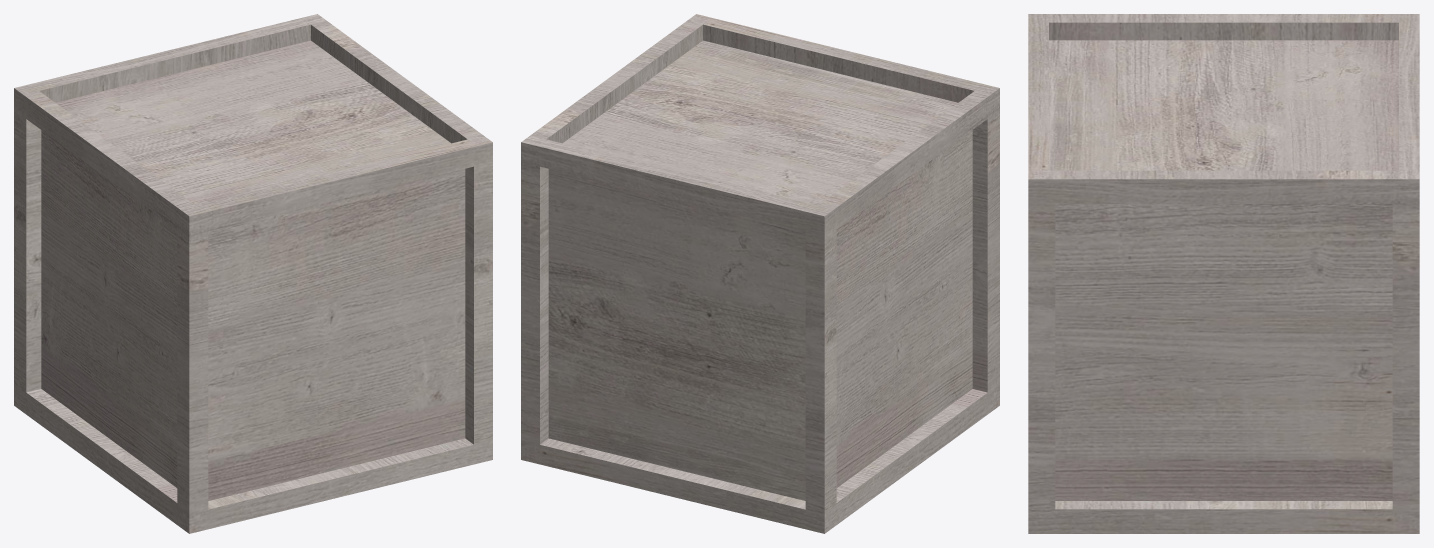
File: crate box.glb
3 renders of one model, left to right at view 1: azimuth 30°, elevation 25°; view 2: azimuth 150°, elevation 25°; view 3: azimuth 270°, elevation 25°, orthographic. The views are drawn at different scales.
Parts seen in each view (by area): view 1: Cube; view 2: Cube; view 3: Cube.
Boxes of the visible parts, x1,y1,x2,y2 form: Cube: [14, 14, 492, 533]; Cube: [521, 14, 999, 533]; Cube: [1028, 14, 1419, 533].
Size of the model in its own units: 2 by 2 by 2.
1 material, 1 textured.
